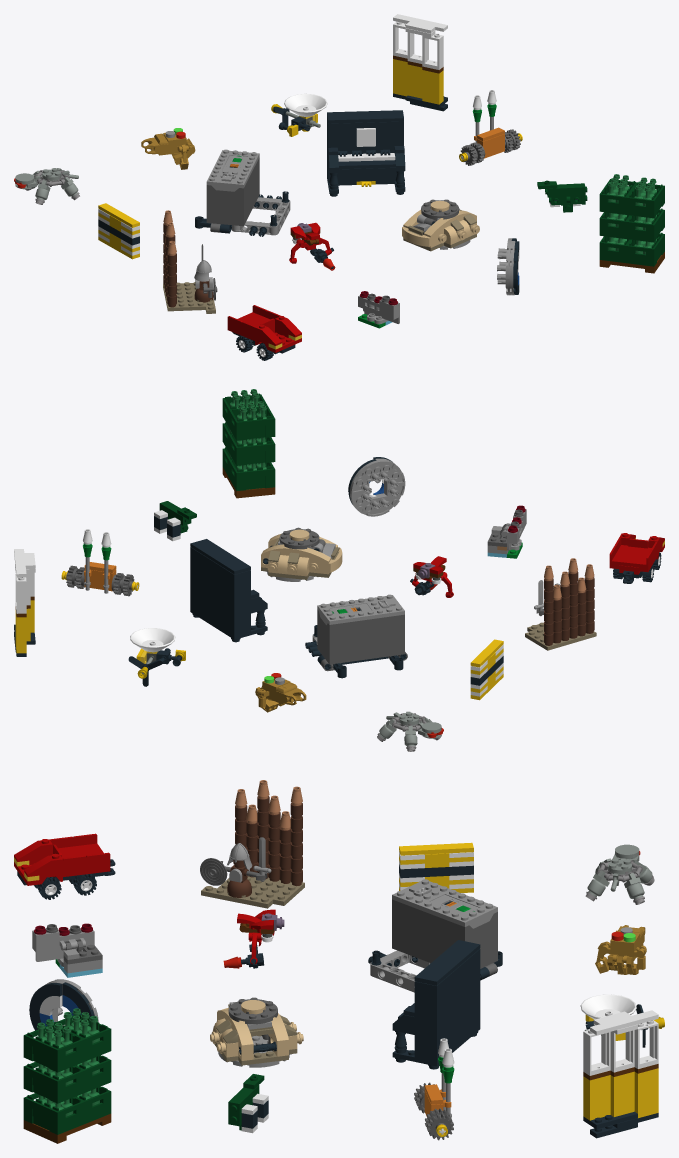
3 renders of one model, top to bottom at view 1: azimuth 30°, elevation 25°; view 2: azimuth 150°, elevation 25°; view 3: azimuth 270°, elevation 25°, orthographic. The views are drawn at different scales.
Parts seen in each view (by area): view 1: 30150 (×6), 64228, 64179, 6942, 3032, 4162, 60593; view 2: 64228, 30150 (×3), 18646 (×2), 6942, 3007, 3032, 4162, 60474; view 3: 30150 (×6), 64228, 60593 (×3), 4162 (×2), 64179, 4286 (×2), 6942, 3032, 3007, 60474, 6636, 3666 (+1 smaller).
Boxes of the visible parts, <box> form: 30150 (×6): <box>599,179,664,266</box>; 64228: <box>206,149,259,226</box>; 64179: <box>232,197,290,235</box>; 6942: <box>284,93,327,116</box>; 3032: <box>163,282,205,311</box>; 4162: <box>327,114,403,123</box>; 60593: <box>422,33,443,69</box>; 64228: <box>317,594,404,664</box>; 30150 (×3): <box>229,405,275,490</box>; 18646 (×2): <box>350,460,405,516</box>; 6942: <box>130,628,175,652</box>; 3007: <box>190,594,250,632</box>; 3032: <box>525,628,596,650</box>; 4162: <box>190,541,242,574</box>; 60474: <box>279,527,319,549</box>; 30150 (×6): <box>23,1014,111,1134</box>; 64228: <box>392,879,497,968</box>; 60593 (×3): <box>583,1020,658,1075</box>; 4162 (×2): <box>414,940,480,985</box>; 64179: <box>370,950,430,992</box>; 4286 (×2): <box>14,839,62,876</box>; 6942: <box>580,994,636,1019</box>; 3032: <box>217,876,304,905</box>; 3007: <box>414,1007,480,1057</box>; 60474: <box>228,997,277,1024</box>; 6636: <box>590,1010,658,1035</box>; 3666: <box>201,886,272,908</box>.
Bounding box in the file's own units: 1053 × 192 × 1059.
